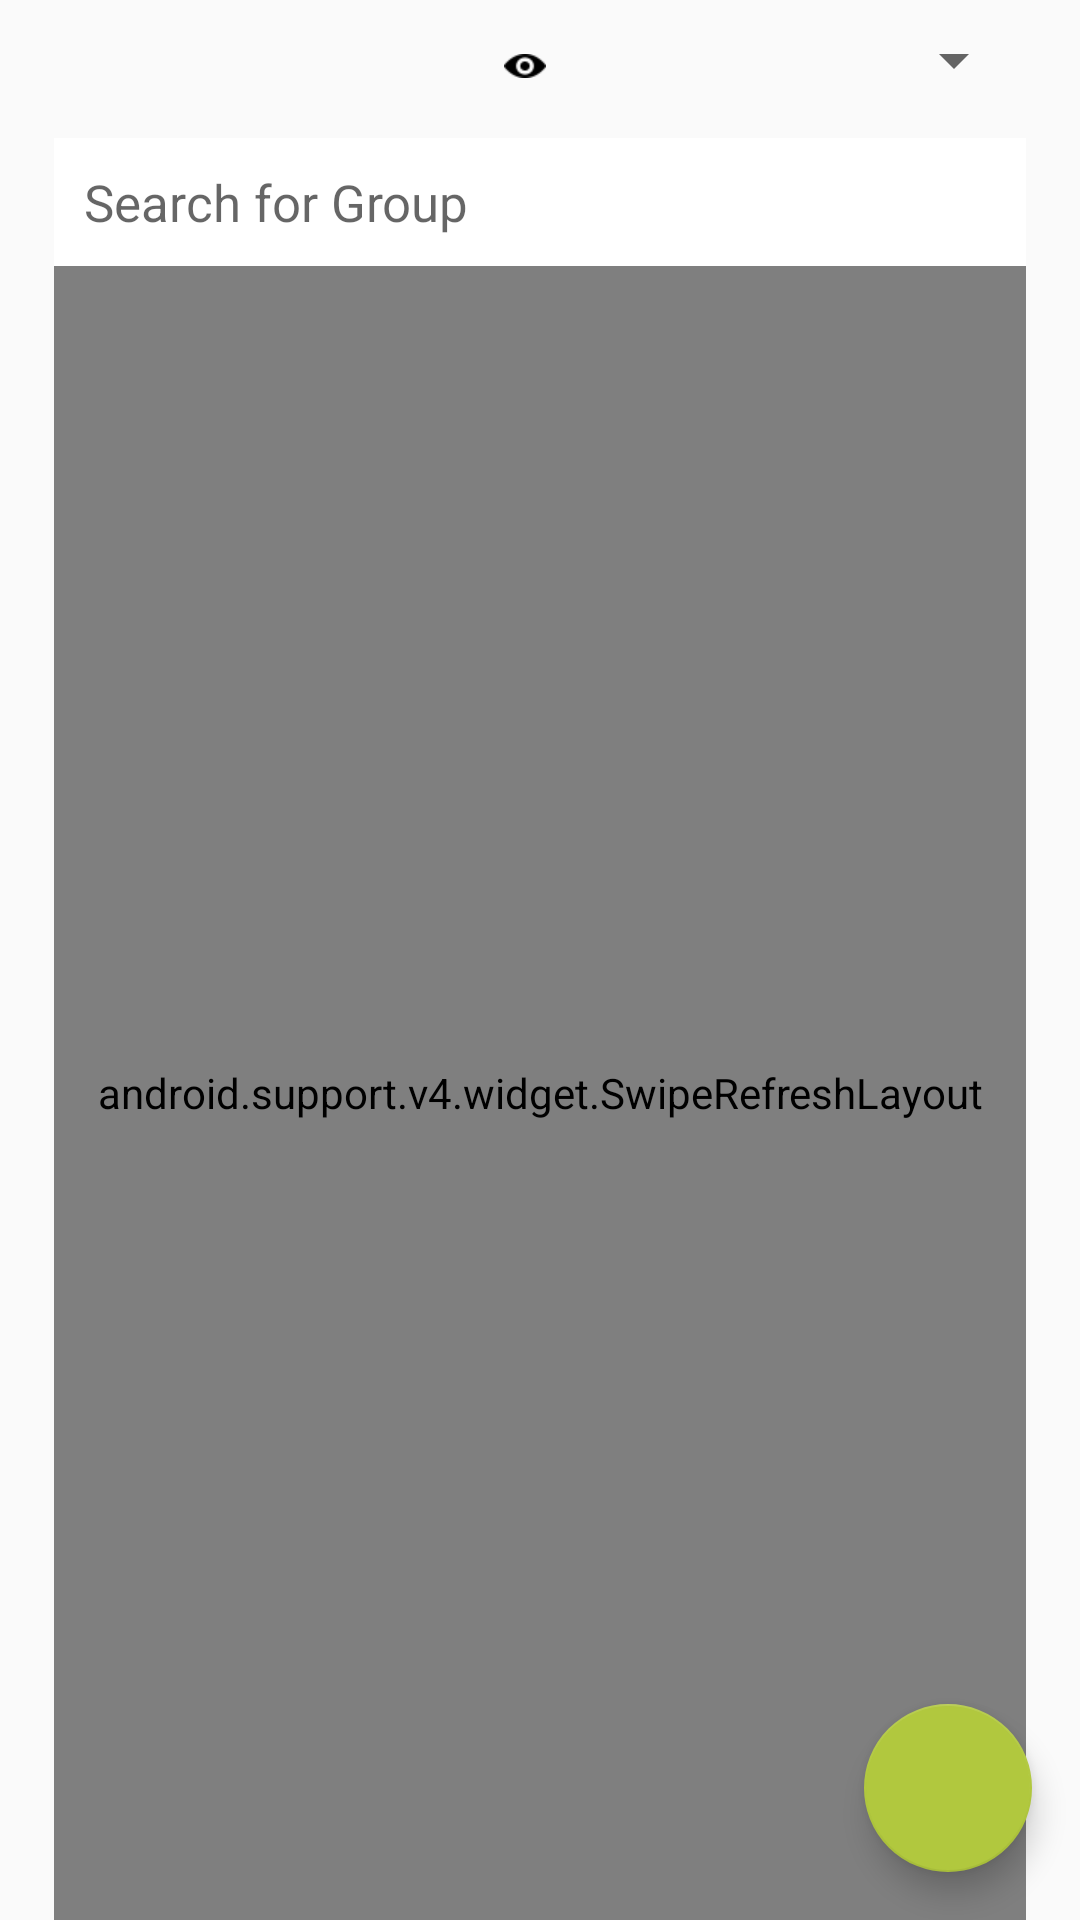

Where to tap for icons on this 1080 × 1920 app screen, as (x=x, y=y):
eye: (x=525, y=66)
